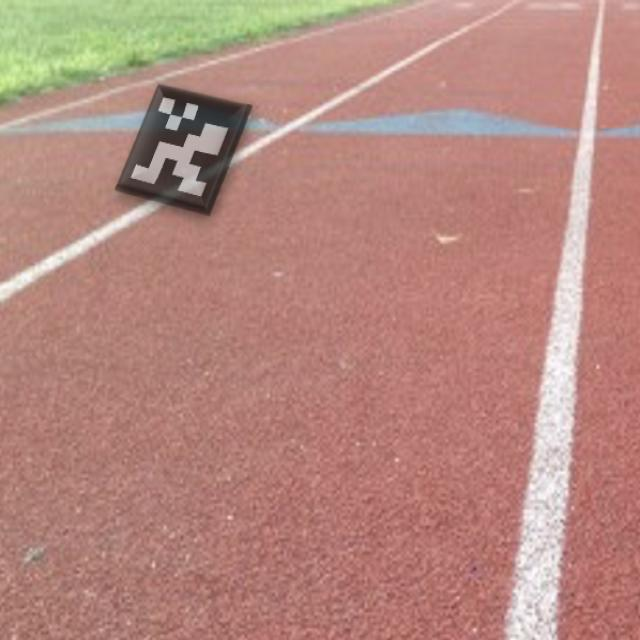marker: (112, 74, 257, 218)
